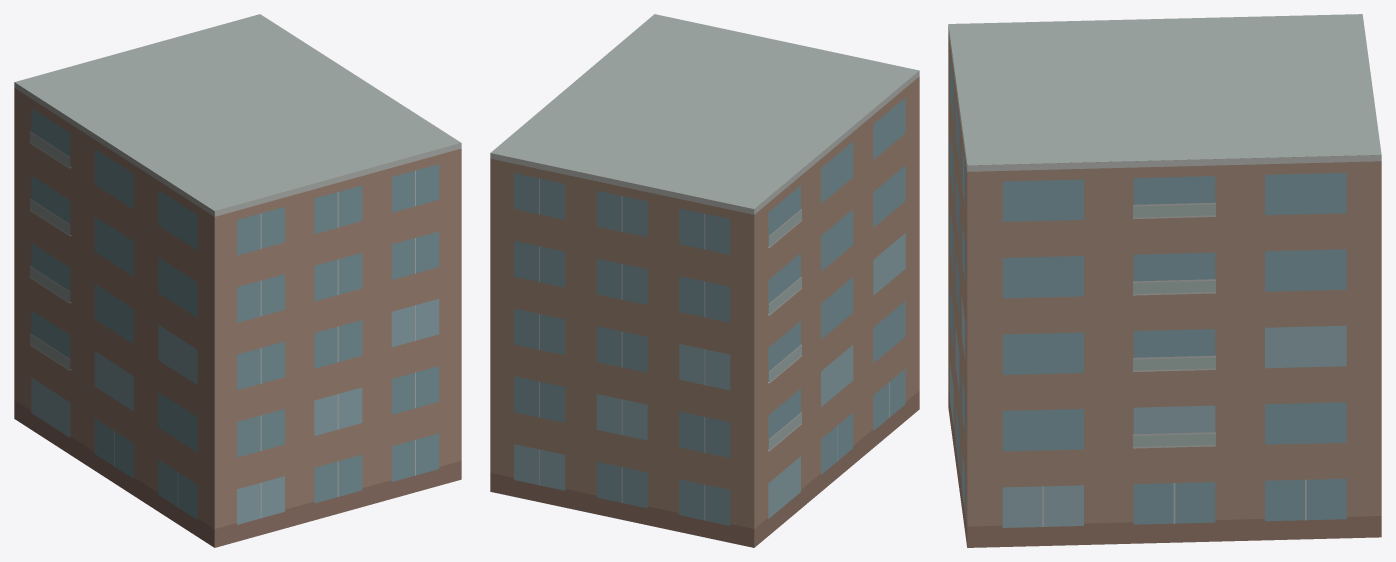
Rendered from survey-upis-33020165.glb.
3 renders of one model, left to right at view 1: azimuth 30°, elevation 25°; view 2: azimuth 150°, elevation 25°; view 3: azimuth 270°, elevation 25°, orthographic. The views are drawn at different scales.
Visible parts, largest first — view 1: survey-upis-33020165.tmp; view 2: survey-upis-33020165.tmp; view 3: survey-upis-33020165.tmp.
Part boxes in pixels (x1,y1,x2,y2): survey-upis-33020165.tmp: (14,14,461,547); survey-upis-33020165.tmp: (490,14,919,547); survey-upis-33020165.tmp: (948,14,1381,547).
Bounding box in the file's own units: 12.32 × 14.5 × 14.9.
